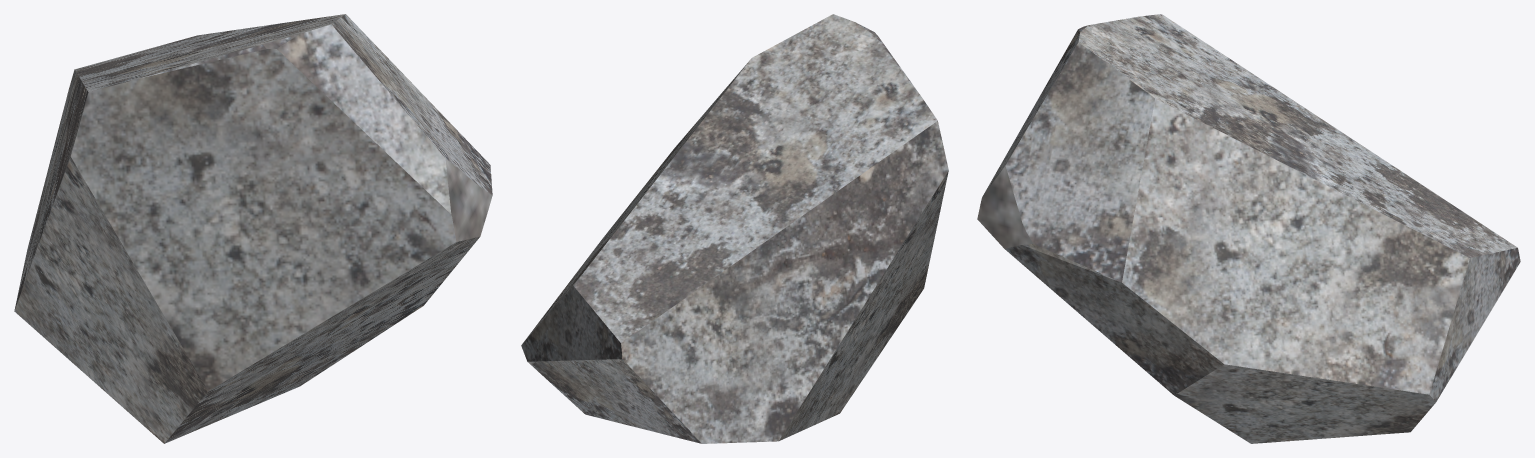
File: Asteroid_Large_001_02_007_03_004.fbx
The picture shows the model from 3 angles, left to right: view 1: azimuth 30°, elevation 25°; view 2: azimuth 150°, elevation 25°; view 3: azimuth 270°, elevation 25°; orthographic projection. The views are drawn at different scales.
Parts seen in each view (by area): view 1: Asteroid_Large_001_02_007_03_004; view 2: Asteroid_Large_001_02_007_03_004; view 3: Asteroid_Large_001_02_007_03_004.
Part boxes in pixels (<box>): Asteroid_Large_001_02_007_03_004: <box>14,14,492,443</box>; Asteroid_Large_001_02_007_03_004: <box>521,14,948,443</box>; Asteroid_Large_001_02_007_03_004: <box>977,14,1520,443</box>.
Size of the model in its own units: 11.42 by 11.69 by 15.48.
